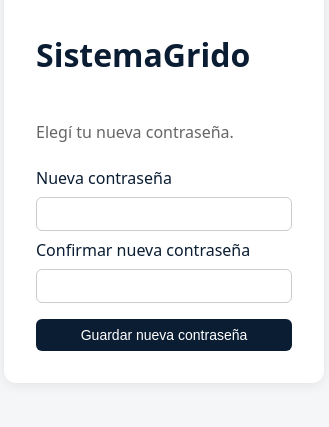
Test: ResetPasswordPage › C) rechaza contraseñas que no coinciden sin llamar a updatePassword
Type "contrasenaSegura1" into the password field labelled "Nueva contraseña" at (164, 214), box [36,197,292,231]
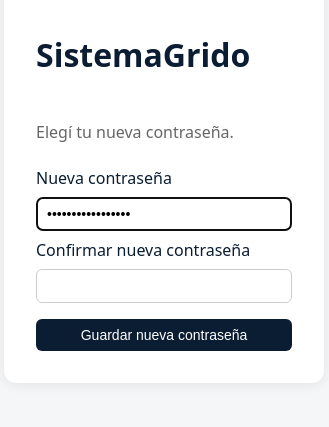
Type "otraContrasena2" into the password field labelled "Confirmar nueva contraseña" at (164, 286), box [36,269,292,303]
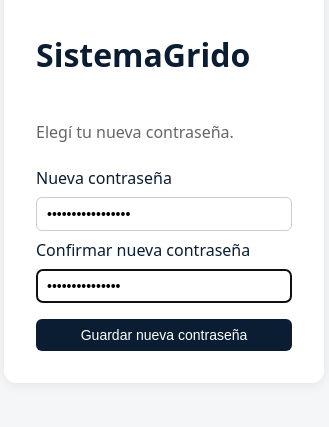
Click the button "Guardar nueva contraseña" at (164, 335), box [36,319,292,351]
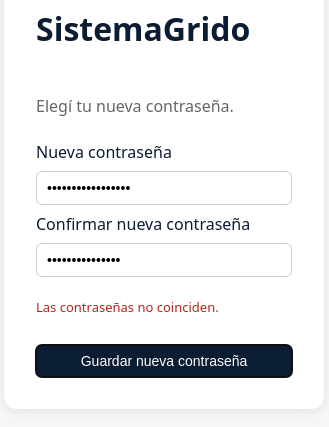
Expected: the message shows "no coinciden", [36,298,219,316]
